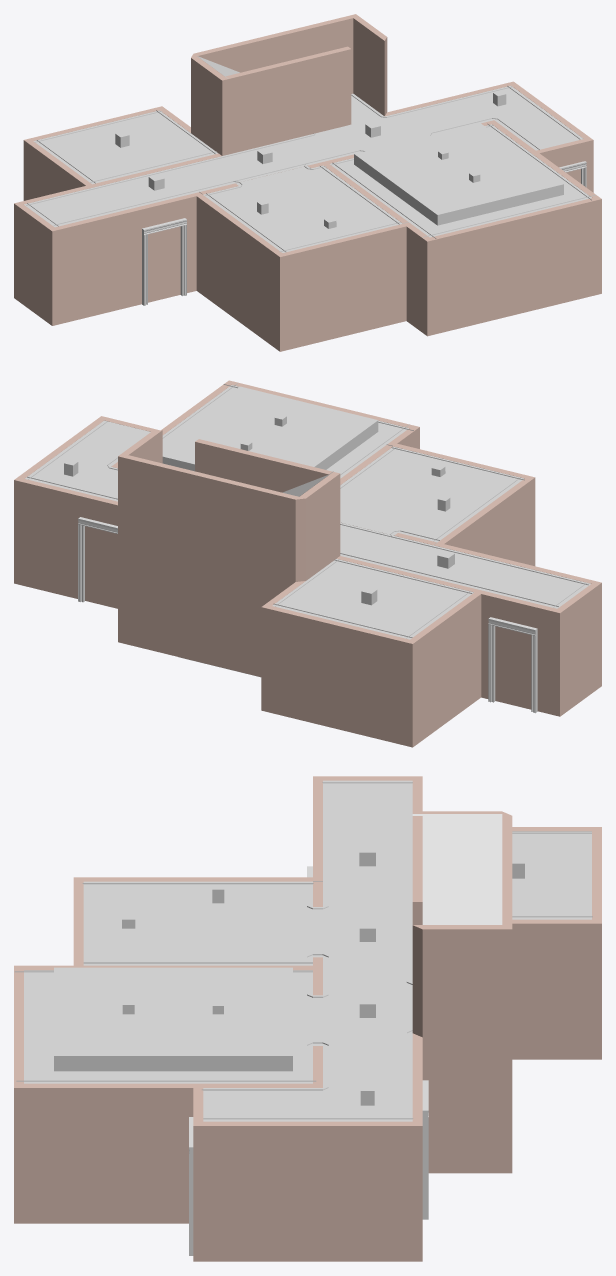
The model's file is layout.fbx.
3 renders of one model, top to bottom at view 1: azimuth 30°, elevation 25°; view 2: azimuth 150°, elevation 25°; view 3: azimuth 270°, elevation 25°, orthographic. The views are drawn at different scales.
Visible parts, largest first — view 1: ExteriorWalls, Ceiling.001, EndWall, ExitDoor.002, BedroomSouthWall, KitchenEastWall; view 2: ExteriorWalls, Ceiling.001, EndWall, ExitDoor, BedroomSouthWall, ExitDoor.001, KitchenEastWall; view 3: ExteriorWalls, Ceiling.001, EndWall, KitchenEastWall, ExitDoor.001, LivingNorthWall, ExitDoor.003.
Part boxes in pixels (x1=…): ExteriorWalls: x1=23, y1=14, x2=601, y2=351; Ceiling.001: x1=24, y1=56, x2=591, y2=252; EndWall: x1=14, y1=185, x2=130, y2=325; ExitDoor.002: x1=142, y1=218, x2=186, y2=305; BedroomSouthWall: x1=90, y1=151, x2=224, y2=188; KitchenEastWall: x1=320, y1=162, x2=411, y2=224; ExteriorWalls: x1=14, y1=380, x2=535, y2=747; Ceiling.001: x1=25, y1=385, x2=590, y2=639; EndWall: x1=479, y1=562, x2=601, y2=716; ExitDoor: x1=488, y1=617, x2=537, y2=713; BedroomSouthWall: x1=334, y1=553, x2=480, y2=593; ExitDoor.001: x1=78, y1=517, x2=117, y2=602; KitchenEastWall: x1=340, y1=443, x2=396, y2=488; ExteriorWalls: x1=14, y1=811, x2=601, y2=1261; Ceiling.001: x1=24, y1=780, x2=591, y2=1121; EndWall: x1=313, y1=776, x2=422, y2=830; KitchenEastWall: x1=83, y1=962, x2=312, y2=972; ExitDoor.001: x1=422, y1=1080, x2=428, y2=1219; LivingNorthWall: x1=307, y1=970, x2=328, y2=1087; ExitDoor.003: x1=189, y1=1117, x2=193, y2=1255.
Bounding box in the file's own units: 1960 × 906 × 2757.
